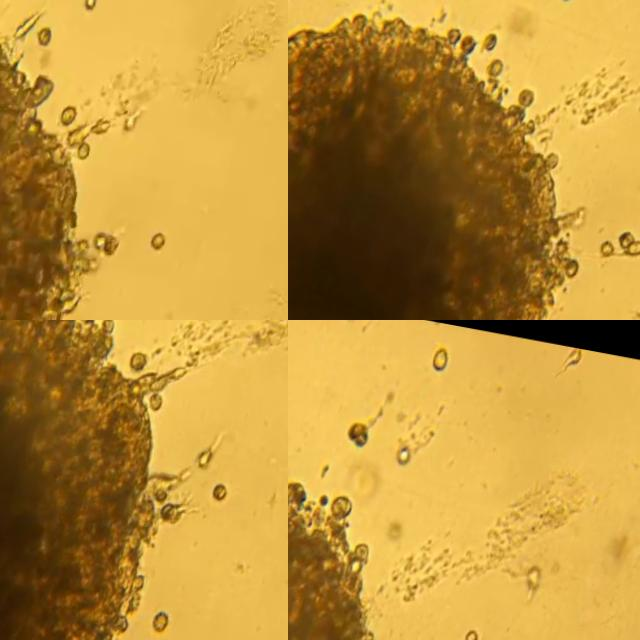cell: (11, 9, 42, 36), (553, 348, 583, 373), (125, 103, 147, 132), (349, 422, 371, 448), (68, 123, 90, 144), (157, 608, 175, 631), (105, 233, 122, 256), (621, 230, 640, 249), (431, 349, 446, 371), (131, 351, 148, 369), (94, 116, 113, 132), (39, 23, 52, 46), (63, 106, 81, 122), (150, 391, 165, 410), (98, 232, 114, 249), (155, 231, 170, 249), (78, 141, 93, 159), (484, 32, 498, 51), (216, 482, 230, 500), (397, 446, 412, 462), (201, 450, 214, 468), (629, 239, 640, 256), (605, 242, 618, 255), (468, 630, 480, 640), (86, 0, 97, 6)
tumor_mass: (288, 10, 593, 320)
